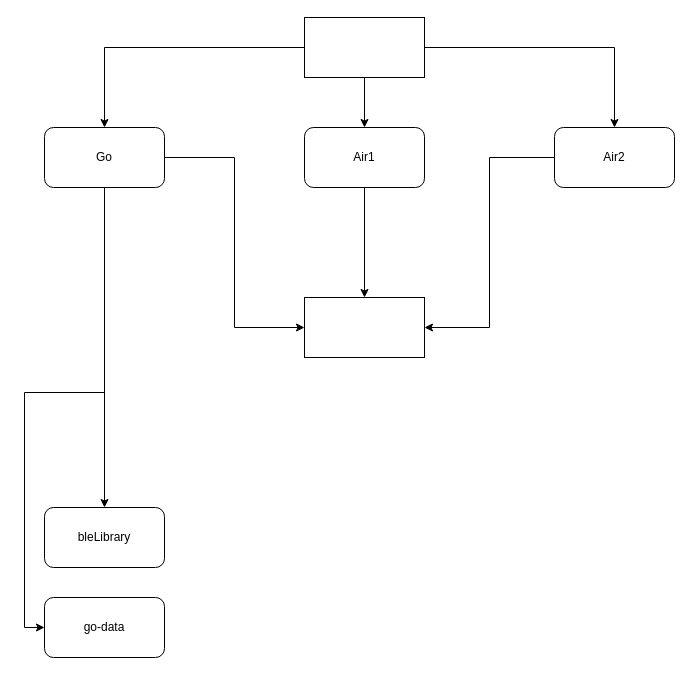
Image size: 692x675. Some labels were removed from this diagram. The shapes that lost their labels are listed below. From the top down, each one's centre as x and y in pixels, then its label:
the point at 364,47: APP
the point at 364,327: CommonLibrary
